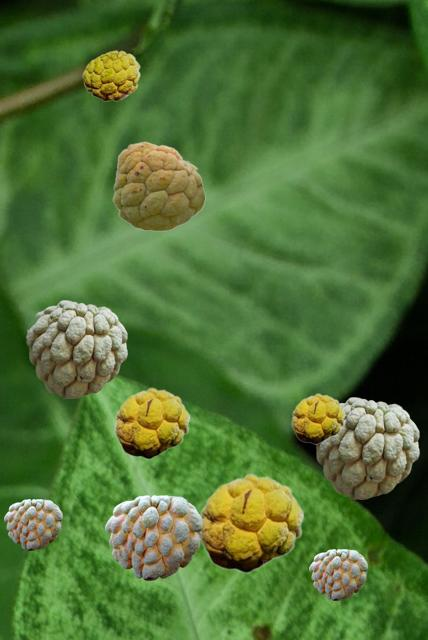atis: (314, 397, 418, 498), (200, 473, 303, 572), (26, 300, 126, 397), (112, 141, 204, 230), (105, 495, 201, 579), (114, 387, 189, 458), (309, 549, 366, 599), (82, 50, 139, 100), (4, 499, 61, 549), (291, 393, 344, 443)
